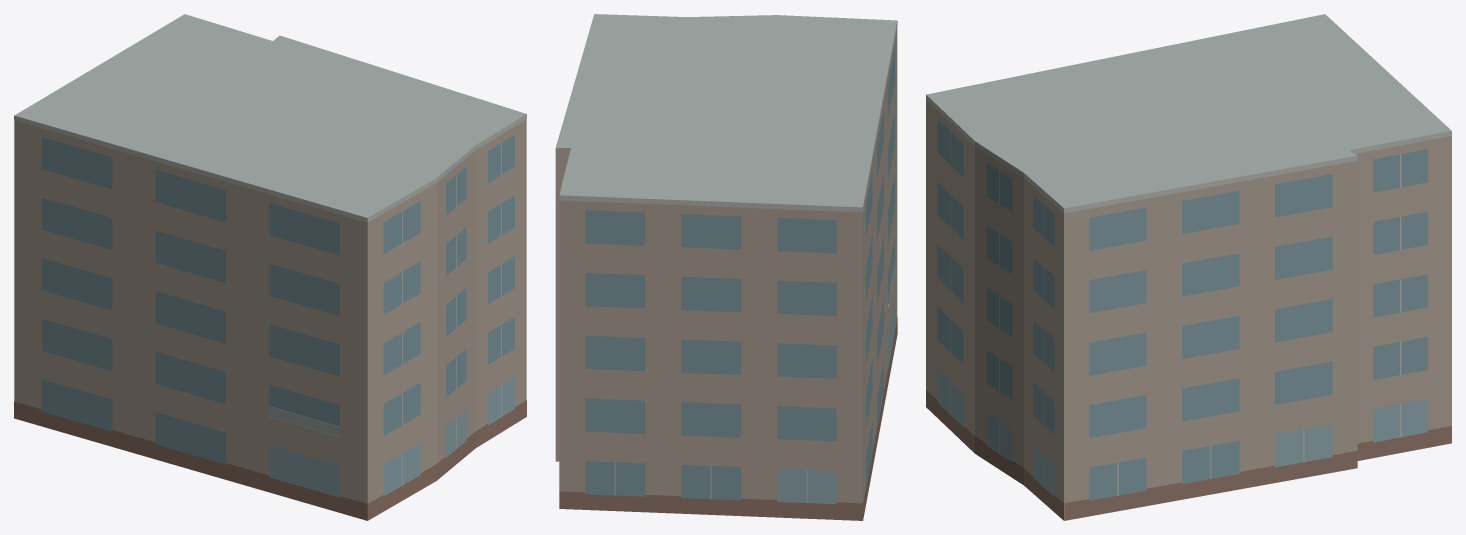
The model's file is survey-upis-32996517.glb.
3 renders of one model, left to right at view 1: azimuth 30°, elevation 25°; view 2: azimuth 150°, elevation 25°; view 3: azimuth 270°, elevation 25°, orthographic. The views are drawn at different scales.
Parts seen in each view (by area): view 1: survey-upis-32996517.tmp; view 2: survey-upis-32996517.tmp; view 3: survey-upis-32996517.tmp.
Part boxes in pixels (x1,y1,x2,y2): survey-upis-32996517.tmp: (14,14,526,520); survey-upis-32996517.tmp: (555,14,897,520); survey-upis-32996517.tmp: (926,14,1451,520).
Bounding box in the file's own units: 20.29 × 15.2 × 23.18.
